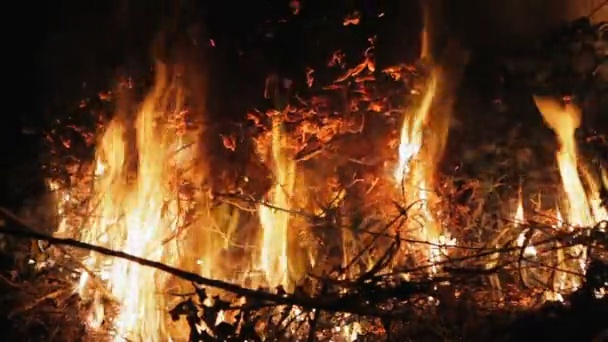fire: (47, 74, 227, 342), (390, 68, 453, 270), (536, 92, 608, 226), (253, 139, 294, 293), (543, 243, 586, 300), (510, 204, 536, 257)
